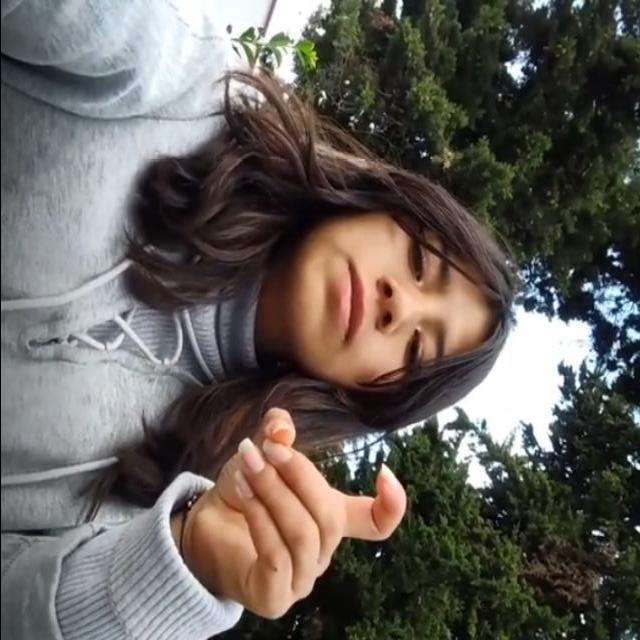X: (192, 389, 416, 638)
